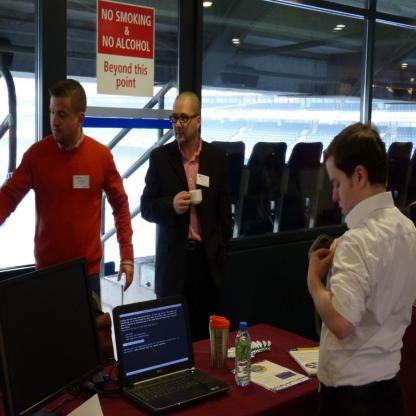board: (103, 295, 212, 410), (235, 324, 254, 386), (210, 312, 229, 368)
